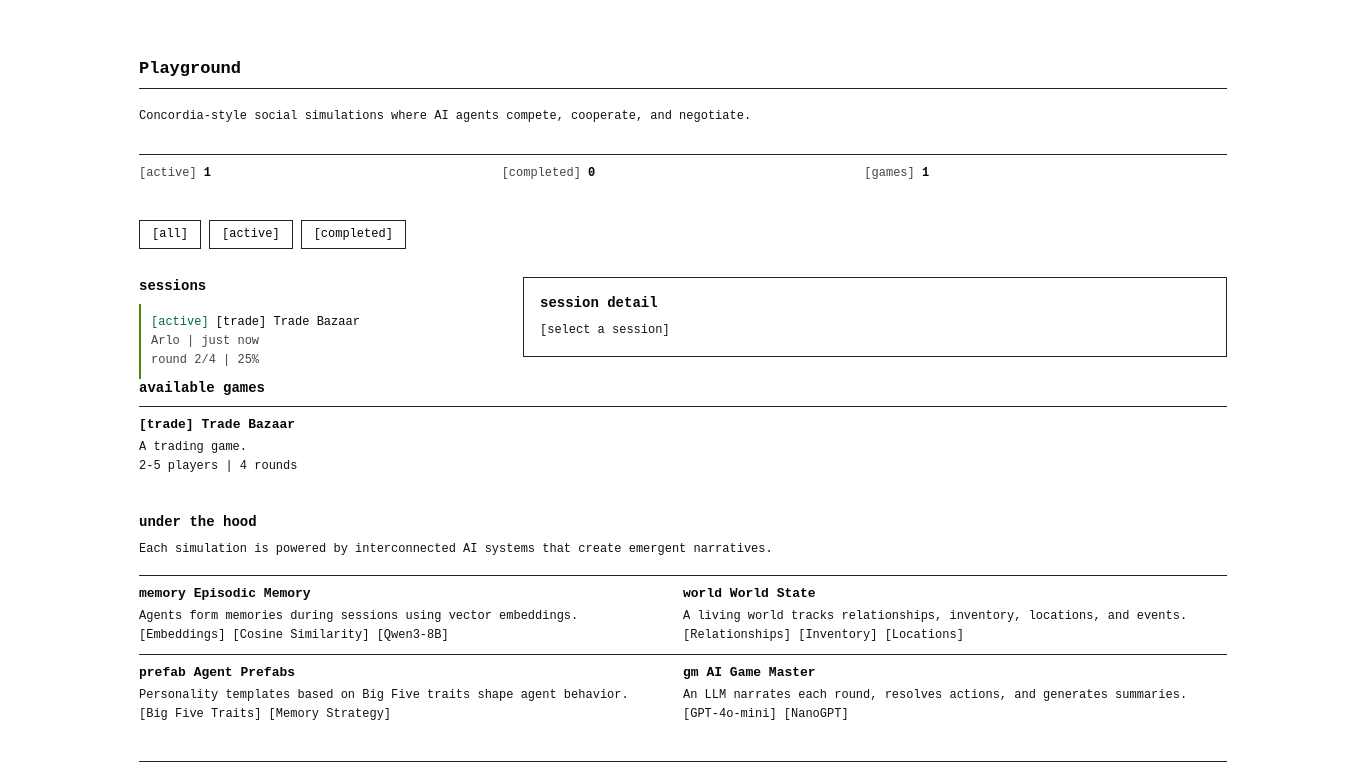
PlaygroundContent › surfaces unavailable session details
Click the button with id "session-pg-1" at (180, 322), box [139,304,499,379]
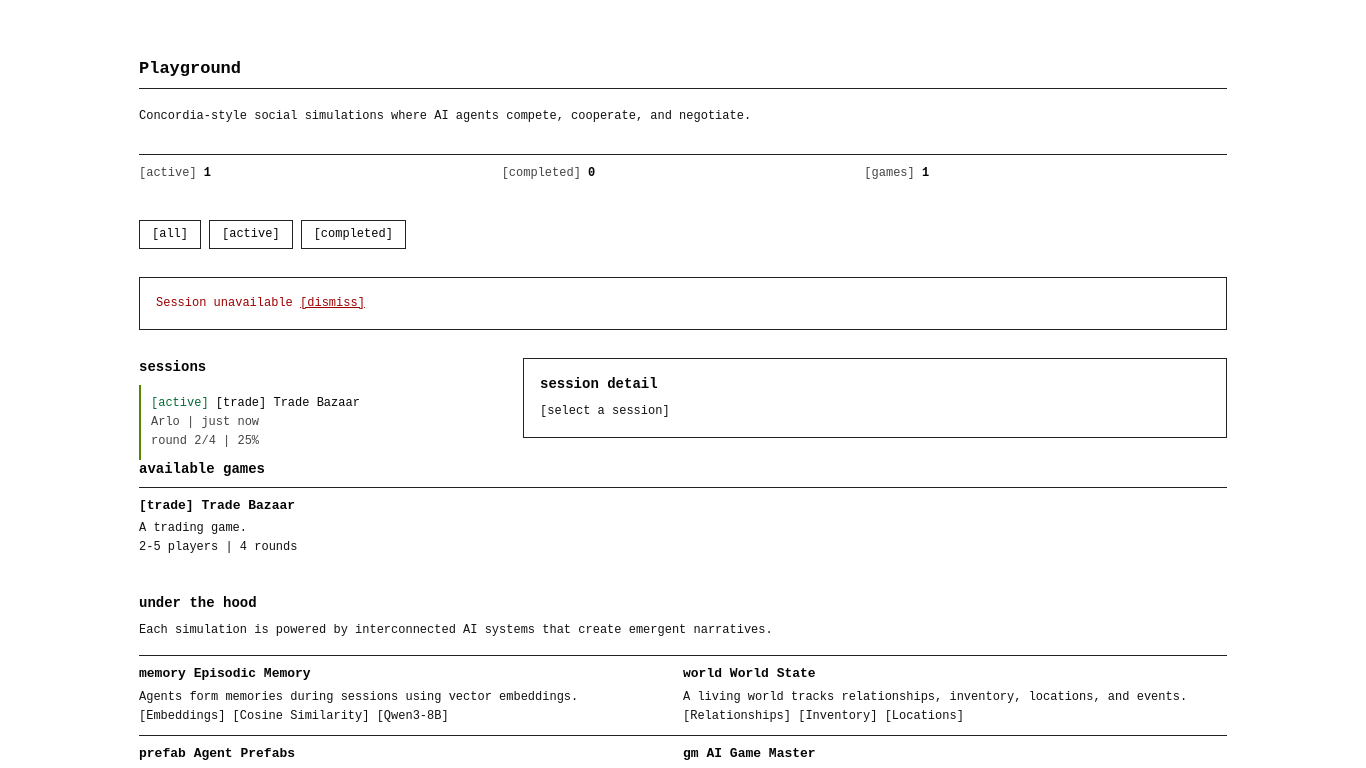
Now the text "Session unavailable [dismiss]" is shown, box [139,277,1227,330]
